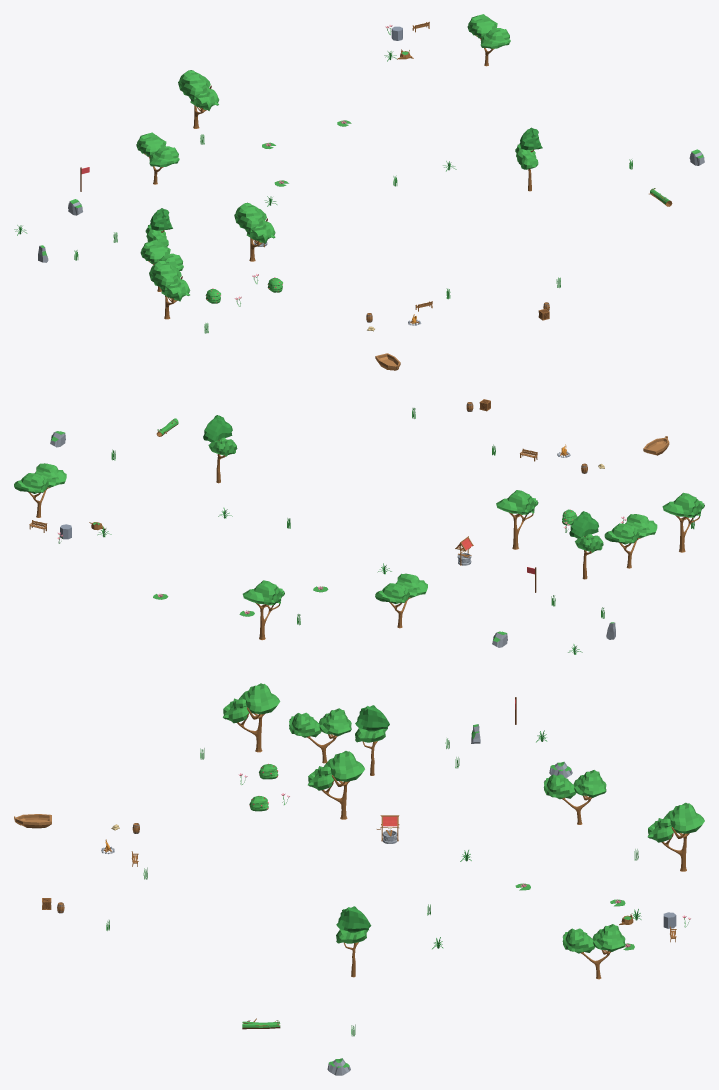
The model's file is level.glb.
3 renders of one model, top to bottom at view 1: azimuth 30°, elevation 25°; view 2: azimuth 150°, elevation 25°; view 3: azimuth 270°, elevation 25°, orthographic. The views are drawn at different scales.
Parts seen in each view (by area): view 1: CommonTree_2.001, CommonTree_2.003, CommonTree_2.002, CommonTree_1.003, CommonTree_1.002, CommonTree_3.002, CommonTree_1.001, CommonTree_3.001; view 2: CommonTree_1.001, CommonTree_1.003, CommonTree_1.002, CommonTree_3.001, CommonTree_3.002, CommonTree_2.002, CommonTree_2.001, CommonTree_2.003; view 3: CommonTree_2.002, CommonTree_2.001, CommonTree_2.003, CommonTree_1.001, CommonTree_1.002, CommonTree_1.003, CommonTree_3.002, CommonTree_3.001.
Boxes of the visible parts, x1,y1,x2,y2 form: CommonTree_2.001: [234, 202, 275, 261]; CommonTree_2.003: [178, 70, 219, 128]; CommonTree_2.002: [149, 260, 190, 319]; CommonTree_1.003: [136, 132, 179, 184]; CommonTree_1.002: [467, 14, 510, 66]; CommonTree_3.002: [515, 127, 542, 191]; CommonTree_1.001: [140, 240, 183, 291]; CommonTree_3.001: [145, 208, 172, 246]; CommonTree_1.001: [604, 514, 657, 568]; CommonTree_1.003: [375, 573, 427, 628]; CommonTree_1.002: [14, 463, 66, 517]; CommonTree_3.001: [569, 511, 603, 579]; CommonTree_3.002: [203, 415, 237, 483]; CommonTree_2.002: [662, 492, 704, 552]; CommonTree_2.001: [496, 490, 538, 549]; CommonTree_2.003: [242, 580, 284, 640]; CommonTree_2.002: [223, 683, 280, 752]; CommonTree_2.001: [308, 751, 364, 819]; CommonTree_2.003: [647, 802, 704, 871]; CommonTree_1.001: [289, 708, 351, 763]; CommonTree_1.002: [562, 924, 625, 979]; CommonTree_1.003: [543, 770, 606, 824]; CommonTree_3.002: [336, 906, 371, 977]; CommonTree_3.001: [355, 705, 389, 775].
Size of the model in its own units: 83.51 by 10.84 by 73.21.
